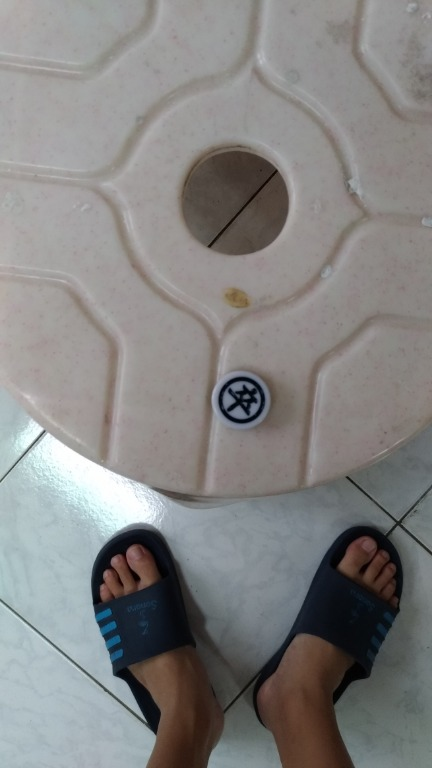b-pawn: (203, 369, 296, 435)
